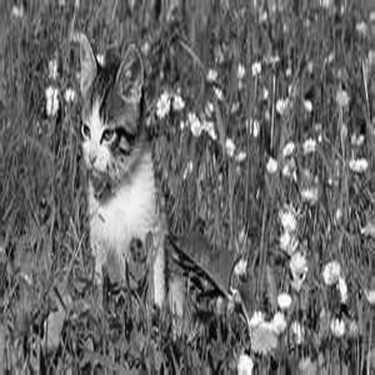cat: (75, 26, 179, 316)
